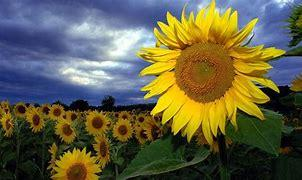sunflowers: (137, 4, 281, 140)
